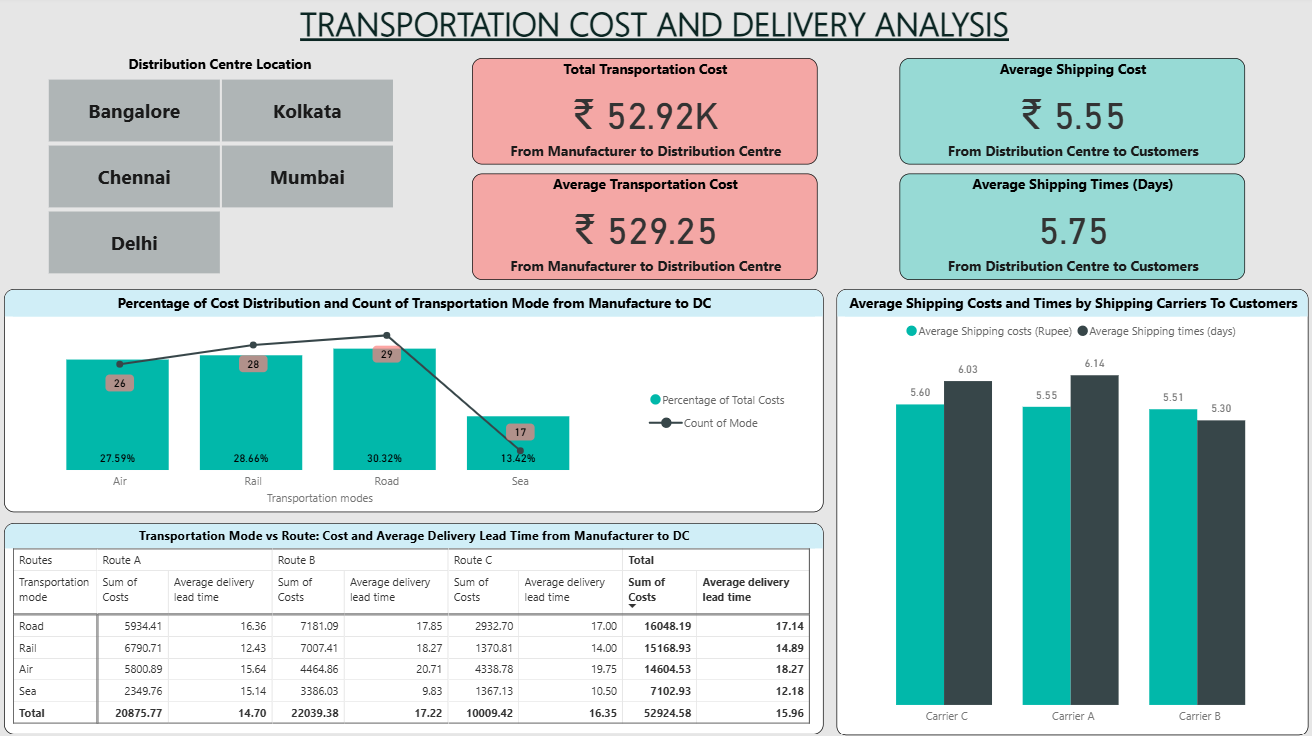

Layout of this report page (visuals, bound fields, positions):
{"tool":"powerbi","page":{"name":"Page 1","canvas":[1280,720],"ordinal":0},"visuals":[{"type":"slicer","title":"Distribution Centre Location","fields":{"Values":["supplychain_cleaned_data.Location"]},"box":[25.9,56.7,383.8,220.2],"z":0},{"type":"pivotTable","title":"Transportation Mode vs Route: Cost and Average Delivery Lead Time from Manufacturer to DC","fields":{"Rows":["supplychain_cleaned_data.Transportation modes"],"Values":["Sum(supplychain_cleaned_data.Costs)","Avg(supplychain_cleaned_data.Supplier lead time)"],"Columns":["supplychain_cleaned_data.Routes"]},"box":[8.1,511.7,795,205.6],"z":1000},{"type":"card","title":"Total Transportation Cost","fields":{"Values":["Sum(supplychain_cleaned_data.Costs)"]},"box":[463.1,61.5,335.2,103.6],"z":2000},{"type":"clusteredColumnChart","title":"Average Shipping Costs and Times by Shipping Carriers To Customers","fields":{"Category":["supplychain_cleaned_data.Shipping carriers"],"Y":["Avg(supplychain_cleaned_data.Shipping costs)","Avg(supplychain_cleaned_data.Shipping times)"]},"box":[816.1,285,458.2,434],"z":3000},{"type":"textbox","box":[0,0,1280,78.3],"z":4000},{"type":"card","title":"Average Transportation Cost","fields":{"Values":["Avg(supplychain_cleaned_data.Costs)"]},"box":[463.1,173.3,335.2,103.6],"z":5000},{"type":"card","title":"Average Shipping Cost","fields":{"Values":["Avg(supplychain_cleaned_data.Shipping costs)"]},"box":[877.6,61.5,335.2,103.6],"z":6000},{"type":"card","title":"Average Shipping Times (Days)","fields":{"Values":["Avg(supplychain_cleaned_data.Shipping times)"]},"box":[877.6,173.3,335.2,103.6],"z":7000},{"type":"lineClusteredColumnComboChart","title":"Percentage of Cost Distribution and Count of Transportation Mode from Manufacture to DC","fields":{"Category":["supplychain_cleaned_data.Transportation modes"],"Y":["Sum(supplychain_cleaned_data.Costs)"],"Y2":["CountNonNull(supplychain_cleaned_data.Transportation modes)"]},"box":[8.1,285,795,217],"z":8000}]}

Visuals, with their boxes in screenshot pixels (x1, y1, x2, y2), scaled from the page's 1280x720 canvas onto the 1312x736 screenshot:
"Distribution Centre Location" slicer: detection(27, 58, 420, 283)
"Transportation Mode vs Route: Cost and Average Delivery Lead Time from Manufacturer to DC" pivotTable: detection(8, 523, 823, 733)
"Total Transportation Cost" card: detection(475, 63, 818, 169)
"Average Shipping Costs and Times by Shipping Carriers To Customers" clusteredColumnChart: detection(837, 291, 1306, 735)
textbox: detection(0, 0, 1311, 80)
"Average Transportation Cost" card: detection(475, 177, 818, 283)
"Average Shipping Cost" card: detection(900, 63, 1243, 169)
"Average Shipping Times (Days)" card: detection(900, 177, 1243, 283)
"Percentage of Cost Distribution and Count of Transportation Mode from Manufacture to DC" lineClusteredColumnComboChart: detection(8, 291, 823, 513)
